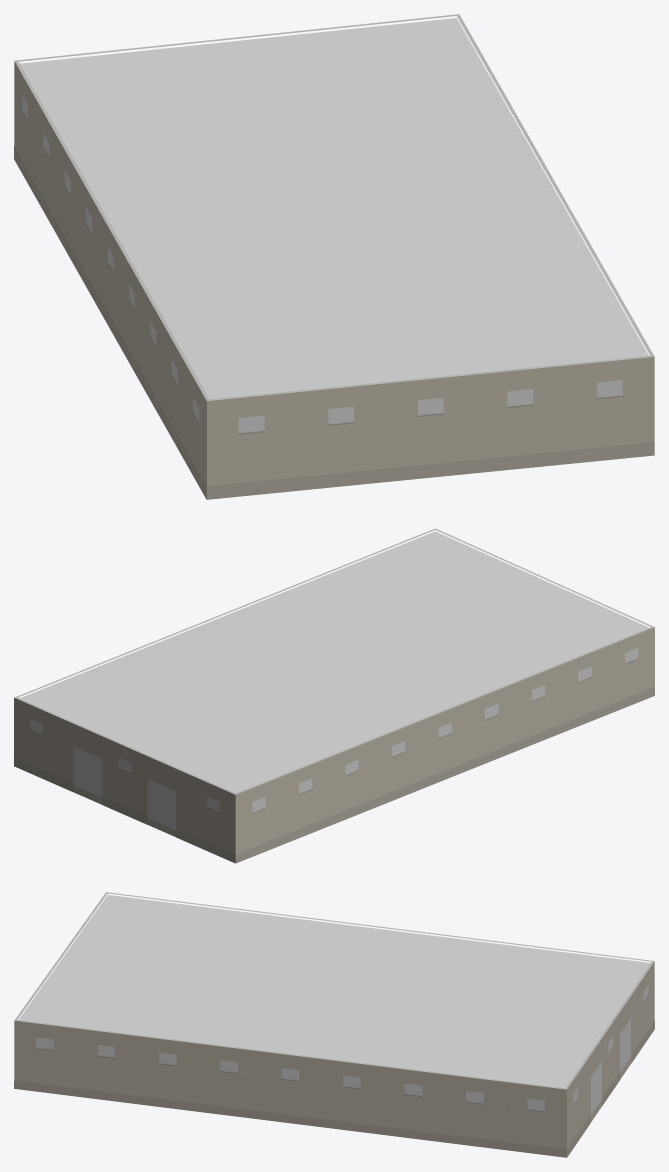
3 views of the same model, one above another, from view 1: azimuth 30°, elevation 25°; view 2: azimuth 150°, elevation 25°; view 3: azimuth 270°, elevation 25° (orthographic). The views are drawn at different scales.
Visible parts, largest first — view 1: bld; view 2: bld; view 3: bld.
Boxes of the visible parts, x1,y1,x2,y2 form: bld: (14, 14, 654, 499); bld: (14, 528, 654, 863); bld: (14, 892, 654, 1157).
Bounding box in the file's own units: 46.1 × 7.4 × 63.15.
